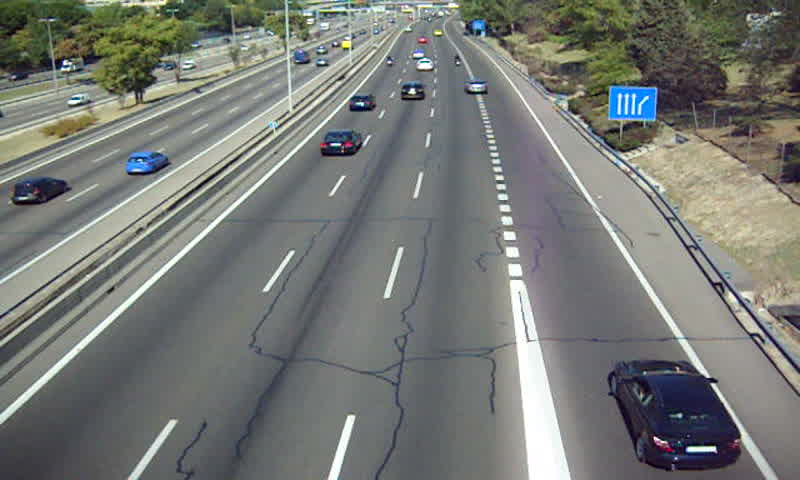car: (611, 359, 741, 469), (318, 130, 360, 157), (399, 81, 425, 101), (349, 93, 374, 112), (464, 78, 488, 95), (415, 56, 434, 71)
motorcycle: (453, 54, 465, 68), (386, 53, 395, 70)
